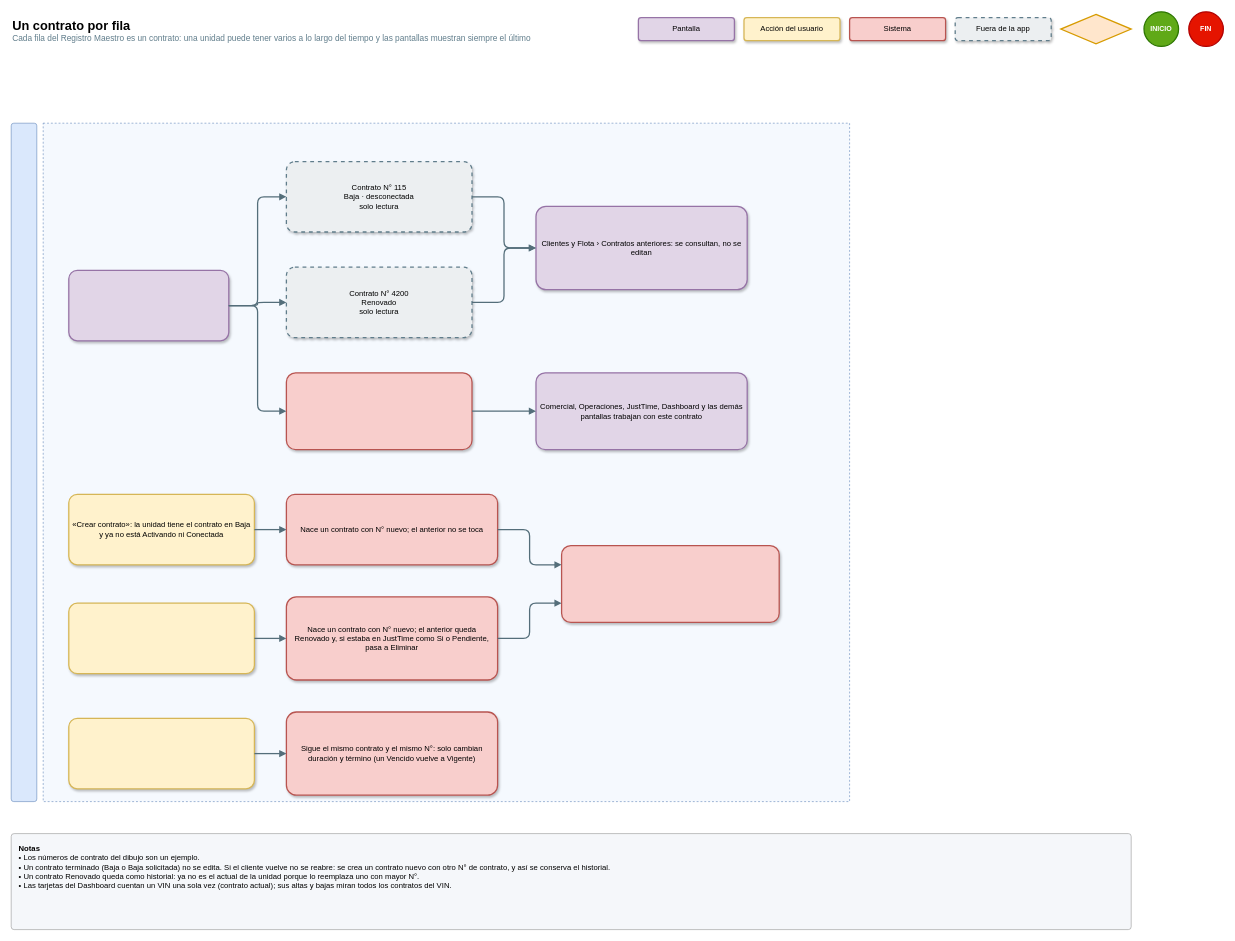
Some shapes in this 1235 by 941 pixel diagram are drawn without their labels. The shapes that lost their labels are listed below. From the top down, each one's centre as x and y in pixels, then its label:
[1096,28]: Decisión
[149,306]: Una unidad (un camión, identificado por su VIN)
[379,411]: Contrato N° 9031 Vigente · conectada CONTRATO ACTUAL (el de mayor N°)
[24,462]: Un VIN, varios contratos
[670,584]: El contrato nuevo, al tener el mayor N°, pasa a ser el actual de la unidad
[162,639]: «Renovar contrato»: contrato Vigente o Vencido que se reemplaza por uno nuevo
[162,754]: «Extender duración»: se suman meses a un contrato Vigente o Vencido
